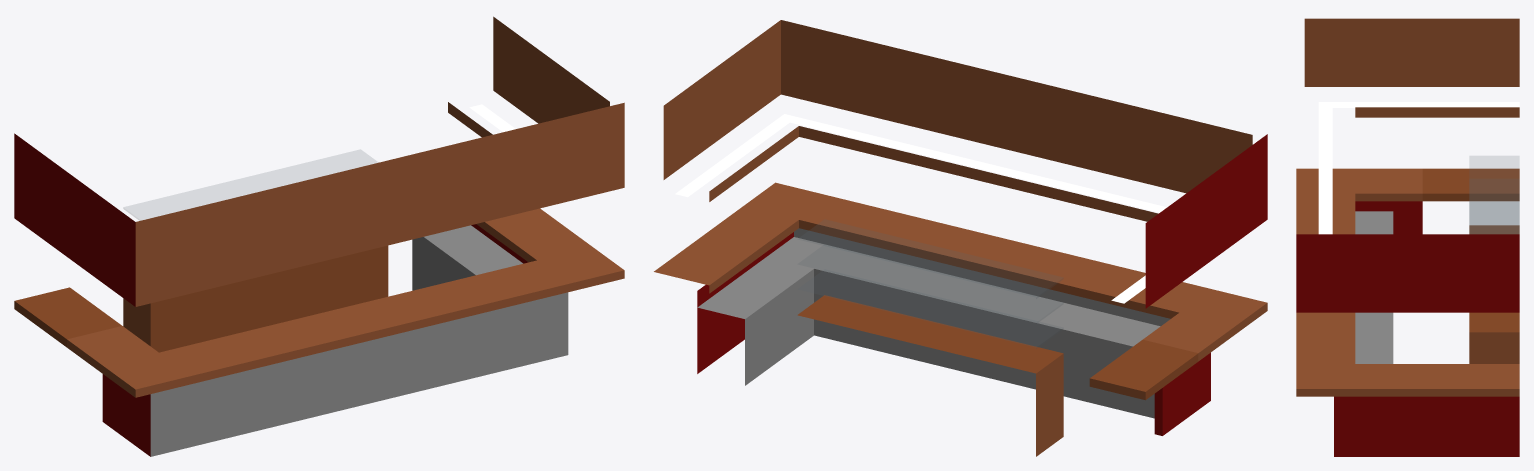
File: bar-counter.glb
The picture shows the model from 3 angles, left to right: view 1: azimuth 30°, elevation 25°; view 2: azimuth 150°, elevation 25°; view 3: azimuth 270°, elevation 25°; orthographic projection. The views are drawn at different scales.
Visible parts, largest first — view 1: BarCounter; view 2: BarCounter; view 3: BarCounter.
Boxes of the visible parts, x1,y1,x2,y2 form: BarCounter: (14,16,624,456); BarCounter: (654,20,1267,456); BarCounter: (1296,18,1519,456).
Size of the model in its own units: 6.17 by 3.12 by 2.65.
